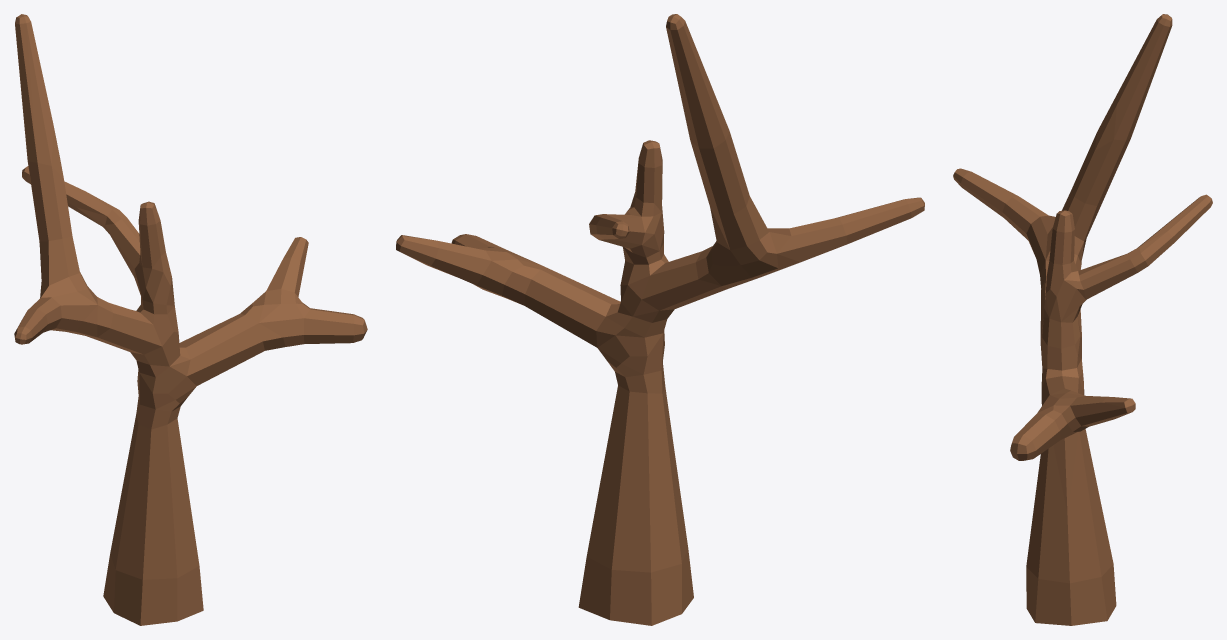
Rendered from tree-summer-trunk-9-038.glb.
3 renders of one model, left to right at view 1: azimuth 30°, elevation 25°; view 2: azimuth 150°, elevation 25°; view 3: azimuth 270°, elevation 25°, orthographic. The views are drawn at different scales.
Parts seen in each view (by area): view 1: TREE 9.001_302; view 2: TREE 9.001_302; view 3: TREE 9.001_302.
Boxes of the visible parts, x1,y1,x2,y2 form: TREE 9.001_302: (14,14,367,625); TREE 9.001_302: (396,14,924,625); TREE 9.001_302: (953,14,1212,625).
Size of the model in its own units: 0.7814 by 1.12 by 0.4749.
